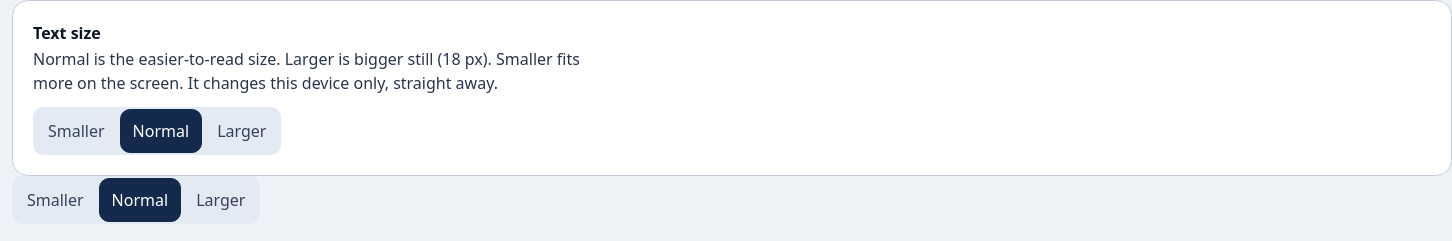
Test: TextSizeControl and the Your details panel › one tap on Smaller applies at once, and every control on the page agrees
Expected: the heading "Text size" is shown, [33,22,101,44]
Click the radio button labelled "Smaller" below "Text size".
click(76, 131)  # box [35,109,118,153]
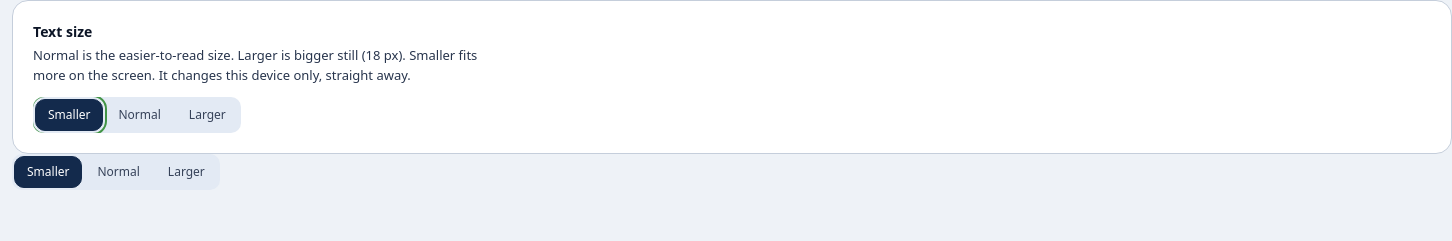
Expected: the radio button labelled "Smaller" below "Text size" is checked, [35,99,104,131]
Expected: the 2nd radio button labelled "Smaller" is checked, [14,156,82,188]
Click the 2nd radio button labelled "Normal".
click(119, 172)  # box [84,156,153,188]
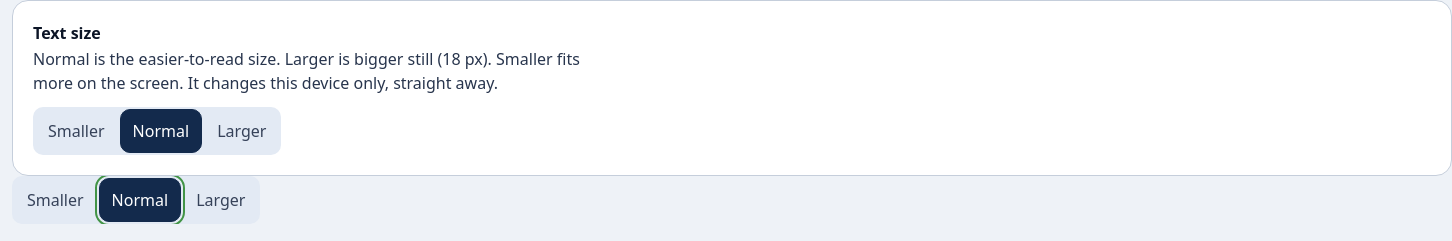
Expected: the 2nd radio button labelled "Normal" is checked, [99,178,181,222]
Expected: the radio button labelled "Normal" below "Text size" is checked, [120,109,202,153]
